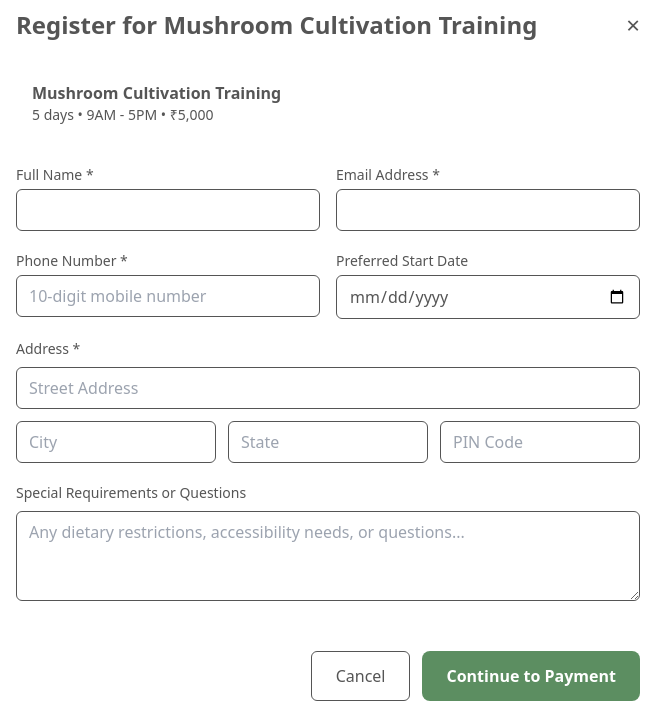
RegistrationModal Validation › shows validation errors when submitting empty form (no user)
Click the button "Continue to Payment" at (531, 676), box [422,651,640,701]
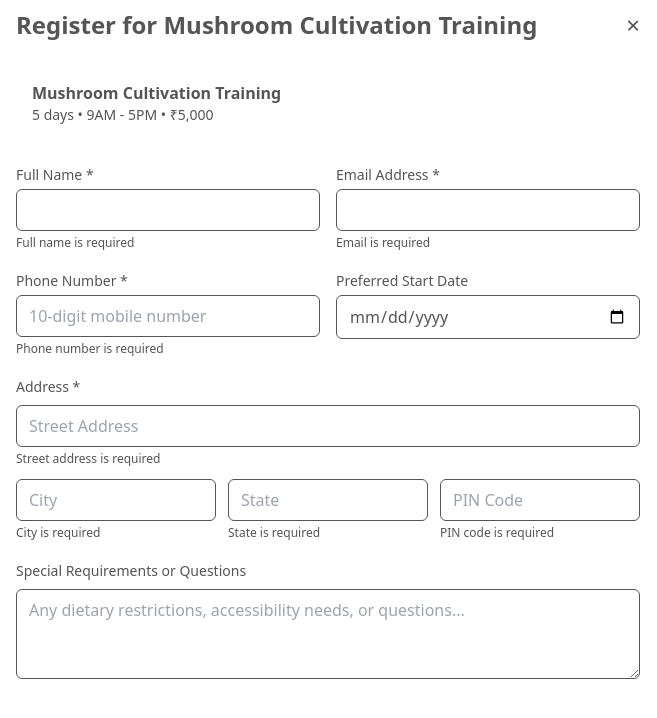
Result: the text "Full name is required" is shown at [16,234,134,251]
Result: the text "Email is required" is shown at [336,234,430,251]
Result: the text "Phone number is required" is shown at [16,340,164,357]
